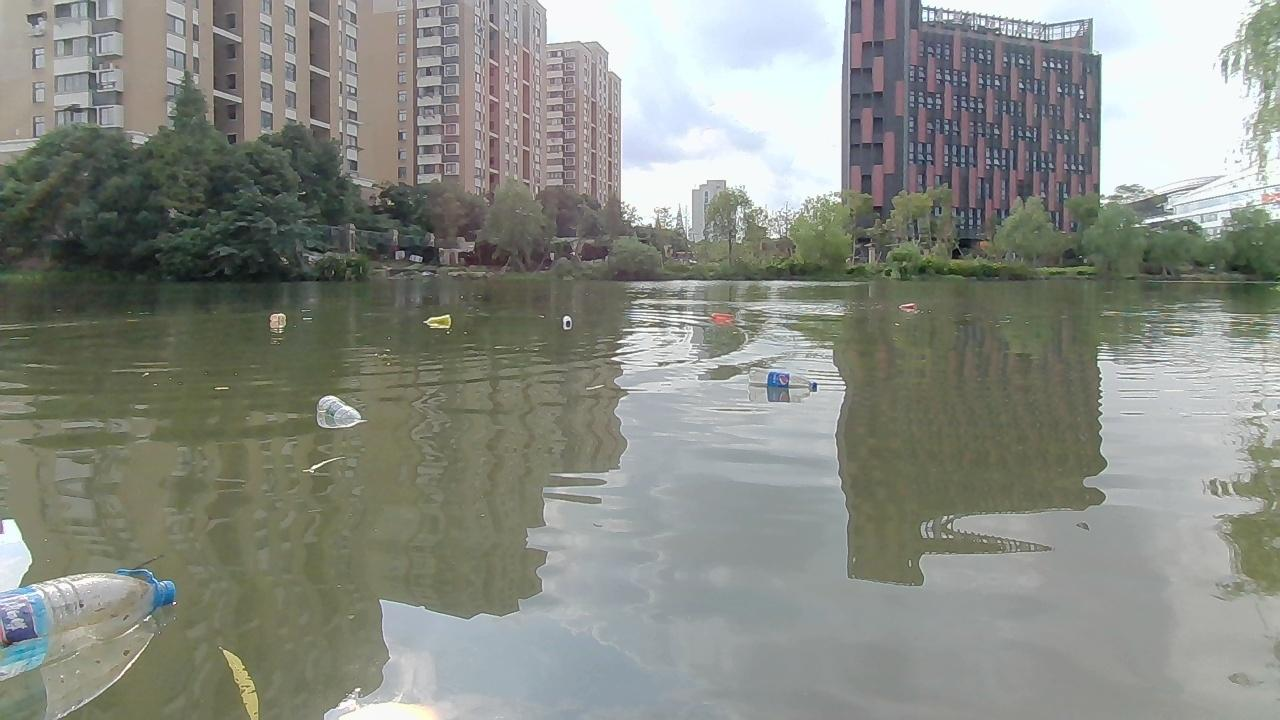bottle: (1, 567, 176, 664), (748, 365, 825, 393), (316, 392, 365, 428), (420, 311, 454, 328), (709, 308, 739, 325), (896, 300, 918, 315), (267, 312, 286, 326), (560, 312, 571, 332)
